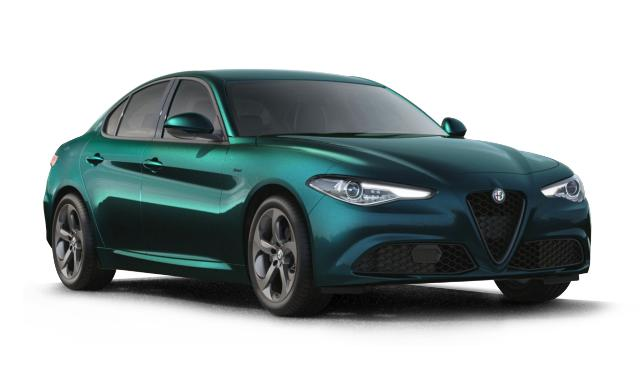alpha-romeo: (42, 68, 592, 318)
